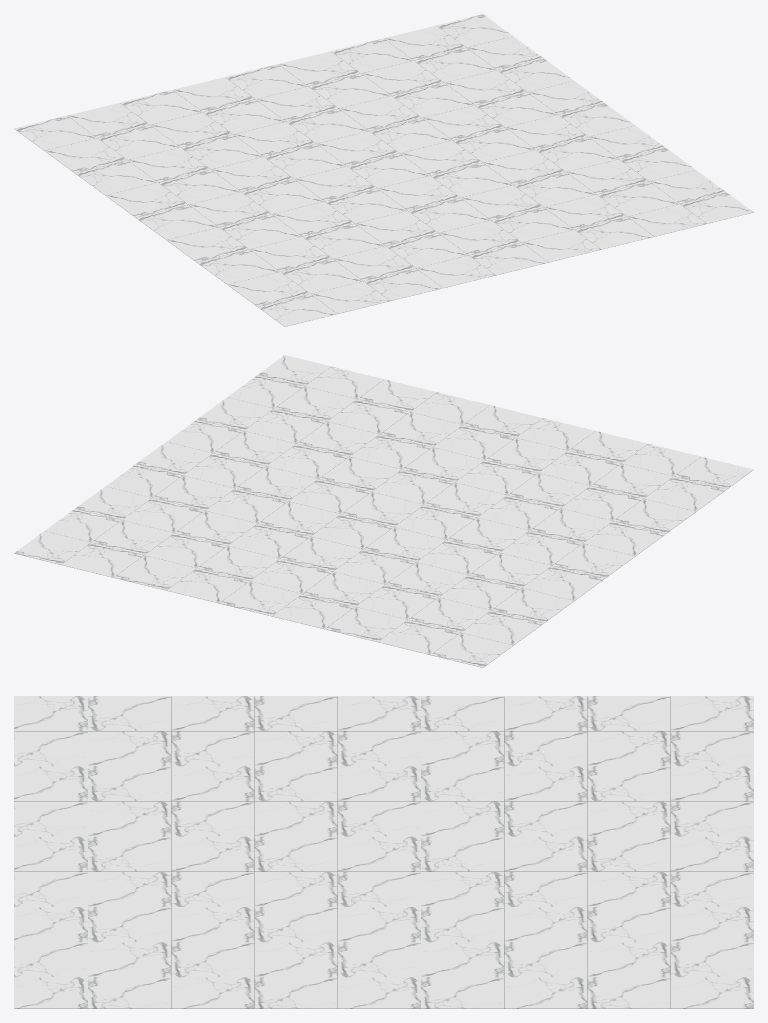
Rendered from nuvola-90x90.glb.
3 renders of one model, top to bottom at view 1: azimuth 30°, elevation 25°; view 2: azimuth 150°, elevation 25°; view 3: azimuth 270°, elevation 25°, orthographic. The views are drawn at different scales.
Parts seen in each view (by area): view 1: Nuvola; view 2: Nuvola; view 3: Nuvola.
Part boxes in pixels (x1=…): Nuvola: x1=14, y1=14, x2=753, y2=326; Nuvola: x1=14, y1=355, x2=753, y2=667; Nuvola: x1=14, y1=696, x2=753, y2=1008.
Bounding box in the file's own units: 8 × 0.003 × 8.
Materials: 2 (1 with a texture image).
